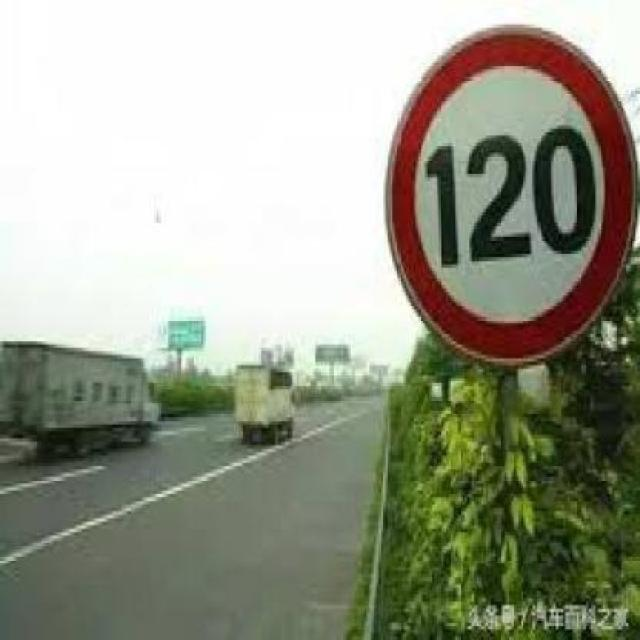forb_speed_over_120: (387, 30, 640, 366)
